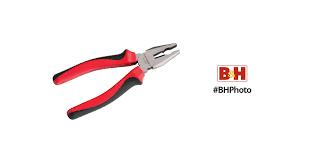pliers: (52, 42, 179, 119)
